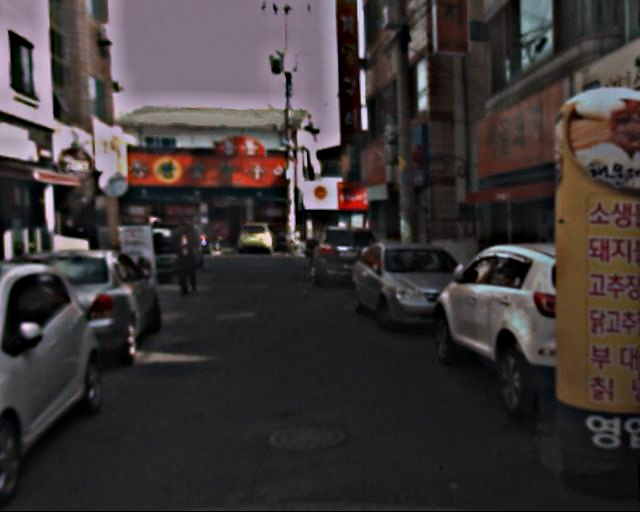person: (173, 221, 207, 298)
